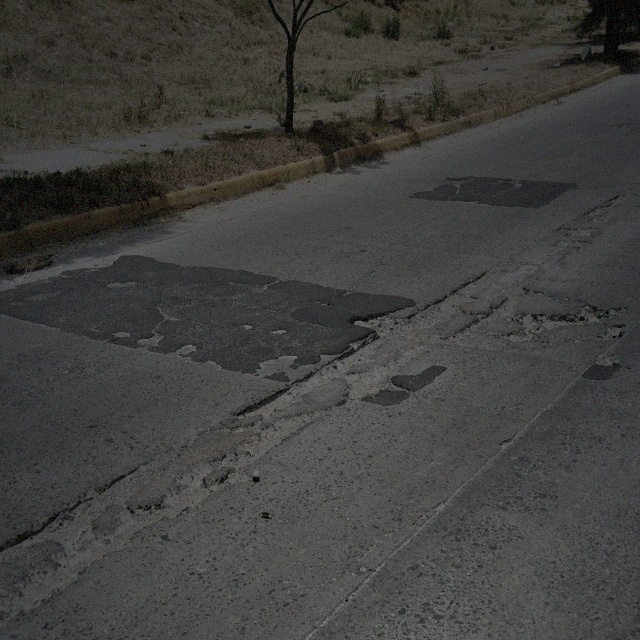pothole: (11, 454, 158, 616), (163, 445, 255, 517), (507, 295, 627, 347), (414, 269, 489, 331), (308, 334, 384, 388), (256, 404, 322, 459), (236, 382, 294, 430), (351, 303, 414, 347), (342, 365, 392, 401), (452, 314, 488, 346), (488, 289, 522, 321), (586, 197, 618, 220), (138, 330, 164, 356), (173, 339, 198, 360), (602, 321, 628, 340), (596, 347, 617, 370), (105, 278, 138, 292), (564, 226, 596, 239), (448, 174, 474, 189), (112, 329, 132, 341), (270, 324, 287, 338), (236, 320, 254, 333)
